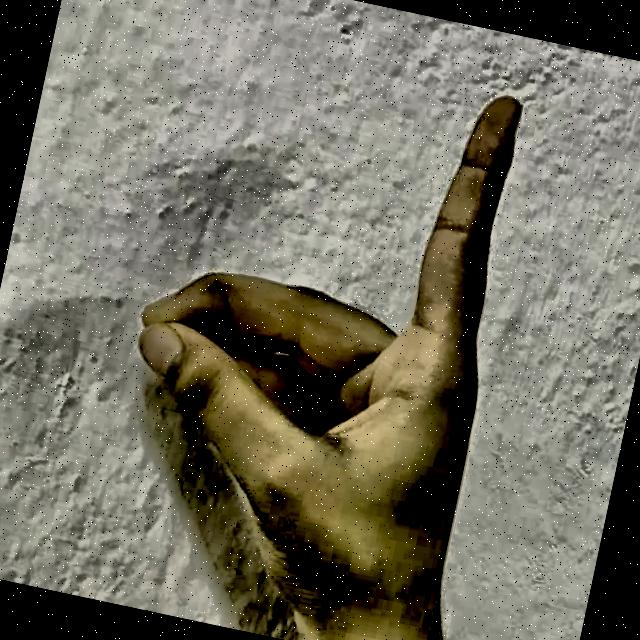Dha: (60, 0, 582, 640)
